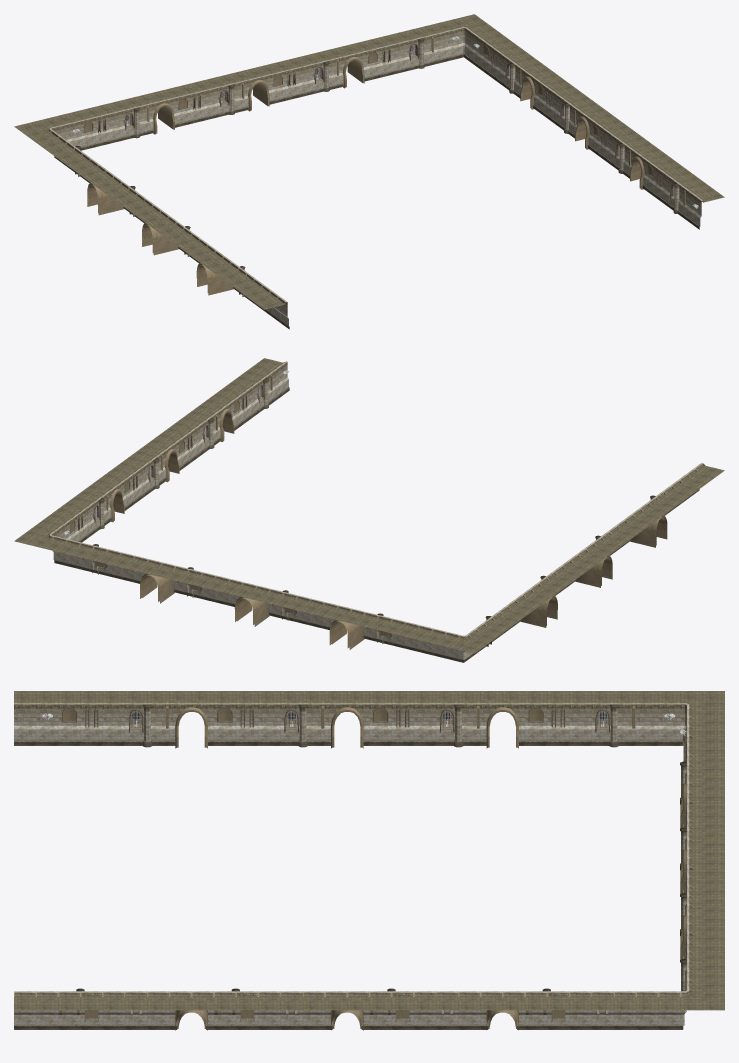
Rendered from WallFrame1.gltf.
The picture shows the model from 3 angles, top to bottom: view 1: azimuth 30°, elevation 25°; view 2: azimuth 150°, elevation 25°; view 3: azimuth 270°, elevation 25°; orthographic projection. The views are drawn at different scales.
Parts seen in each view (by area): view 1: caslte-wall-w-gate-big, caslte-wall-w-gate-big.002, caslte-wall-w-gate-big.001, top-plane.003, top-plane.005, top-plane.004; view 2: caslte-wall-w-gate-big, caslte-wall-w-gate-big.002, caslte-wall-w-gate-big.001, top-plane.003, top-plane.004, top-plane.005; view 3: caslte-wall-w-gate-big.001, caslte-wall-w-gate-big.002, top-plane.004, top-plane.005, top-plane.003, caslte-wall-w-gate-big.
Part boxes in pixels (<box>): caslte-wall-w-gate-big: <box>49,26,462,150</box>; caslte-wall-w-gate-big.002: <box>465,29,710,229</box>; caslte-wall-w-gate-big.001: <box>43,130,289,329</box>; top-plane.003: <box>28,17,468,128</box>; top-plane.005: <box>461,14,724,200</box>; top-plane.004: <box>14,123,277,309</box>; caslte-wall-w-gate-big: <box>49,536,462,662</box>; caslte-wall-w-gate-big.002: <box>43,361,289,542</box>; caslte-wall-w-gate-big.001: <box>465,463,710,661</box>; top-plane.003: <box>28,539,468,650</box>; top-plane.004: <box>461,467,724,653</box>; top-plane.005: <box>14,358,277,544</box>; caslte-wall-w-gate-big.001: <box>14,700,680,748</box>; caslte-wall-w-gate-big.002: <box>14,988,680,1030</box>; top-plane.004: <box>14,691,724,700</box>; top-plane.005: <box>14,1001,724,1010</box>; top-plane.003: <box>702,700,724,1000</box>; caslte-wall-w-gate-big: <box>679,707,702,991</box>.
Bounding box in the file's own units: 68 × 4.19 × 64.
